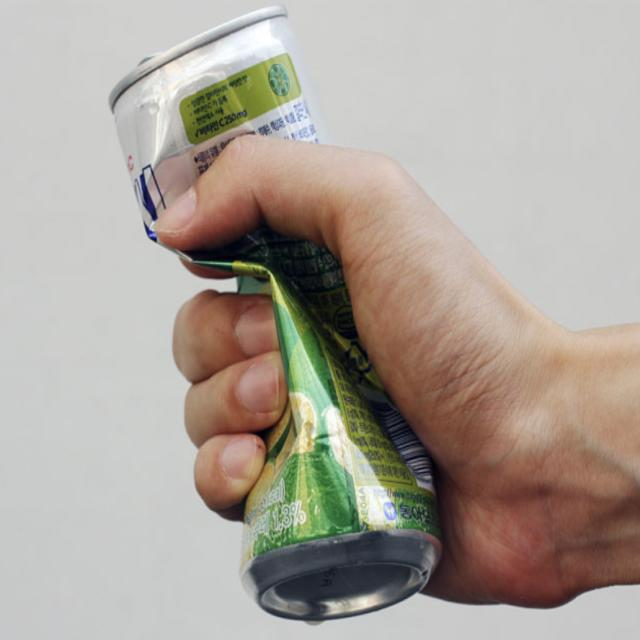recyclable: (95, 11, 466, 626)
